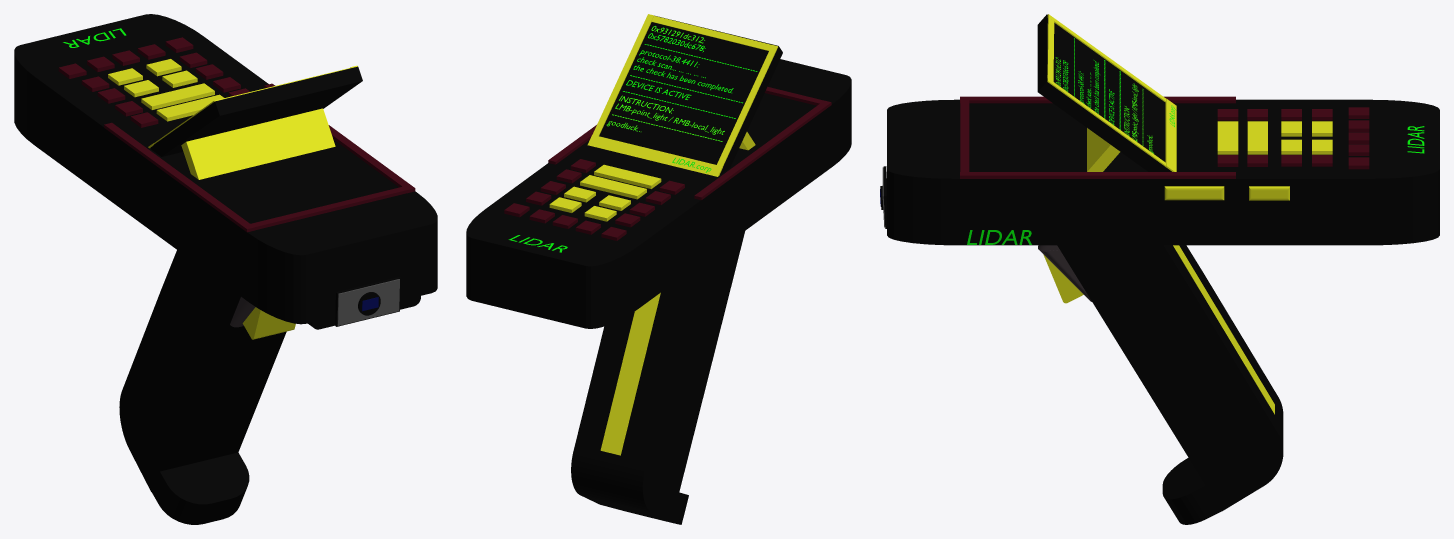
File: Lidar_Scan.fbx
3 renders of one model, left to right at view 1: azimuth 30°, elevation 25°; view 2: azimuth 150°, elevation 25°; view 3: azimuth 270°, elevation 25°, orthographic. The views are drawn at different scales.
Visible parts, largest first — view 1: Cube.007; view 2: Cube.007, Object.001, Object.002; view 3: Cube.007, Object.001.
Part boxes in pixels (box(x1,y1,x2,y2)): Cube.007: box(14, 14, 437, 524); Cube.007: box(466, 14, 851, 524); Object.001: box(623, 33, 757, 118); Object.002: box(606, 95, 724, 141); Cube.007: box(880, 14, 1439, 524); Object.001: box(1063, 38, 1120, 129).
Bounding box in the file's own units: 1.17 × 3.18 × 3.43.
